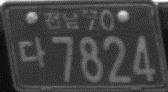0: (98, 8, 115, 32)
2: (103, 35, 131, 83)
4: (132, 34, 157, 83)
7: (49, 34, 75, 84), (81, 8, 98, 31)
8: (77, 35, 104, 83)
다: (17, 33, 47, 70)
전남_O: (42, 10, 80, 31)
